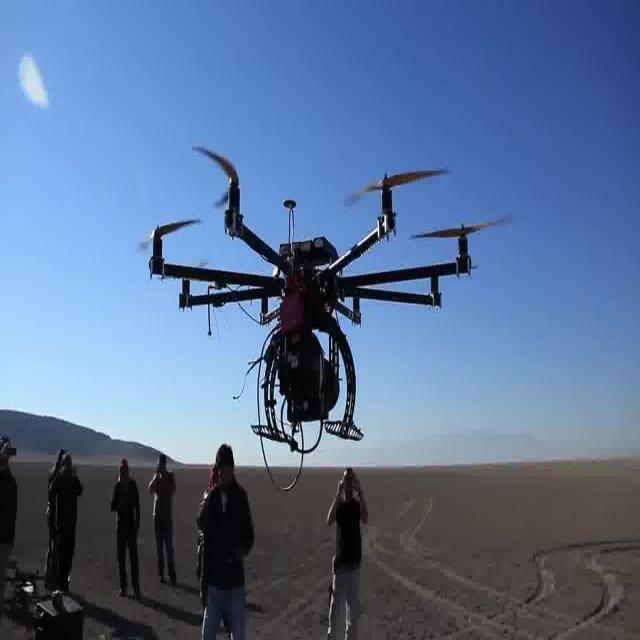drone: (123, 129, 518, 496)
